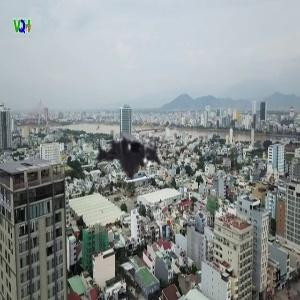drone: (81, 105, 180, 204)
